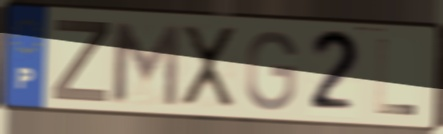2: (306, 27, 365, 121)
G: (243, 27, 300, 113)
L: (374, 35, 420, 118)
M: (109, 19, 183, 110)
X: (179, 23, 238, 110)
Z: (49, 16, 112, 106)
